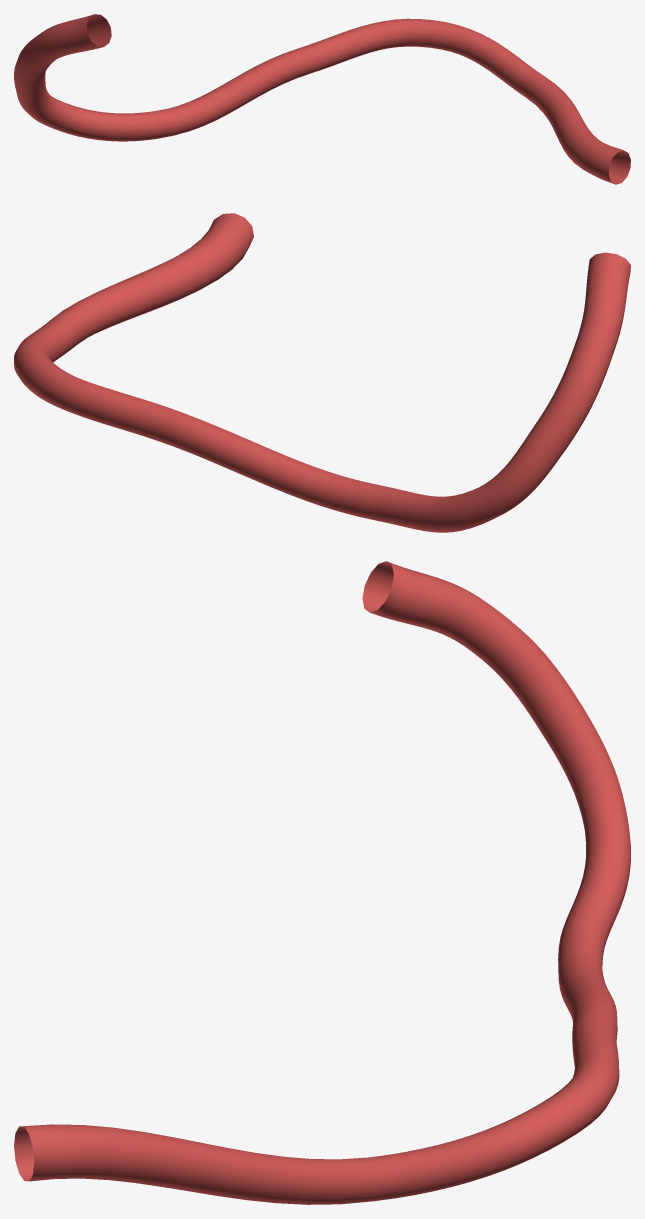
3 views of the same model, one above another, from view 1: azimuth 30°, elevation 25°; view 2: azimuth 150°, elevation 25°; view 3: azimuth 270°, elevation 25° (orthographic). The views are drawn at different scales.
Parts seen in each view (by area): view 1: 右侧掌深弓; view 2: 右侧掌深弓; view 3: 右侧掌深弓.
Part boxes in pixels (left/top/right/bottom): 右侧掌深弓: left=14, top=14, right=630, bottom=184; 右侧掌深弓: left=14, top=213, right=630, bottom=532; 右侧掌深弓: left=14, top=561, right=630, bottom=1204.
Size of the model in its own units: 0.0575 by 0.0225 by 0.04.
